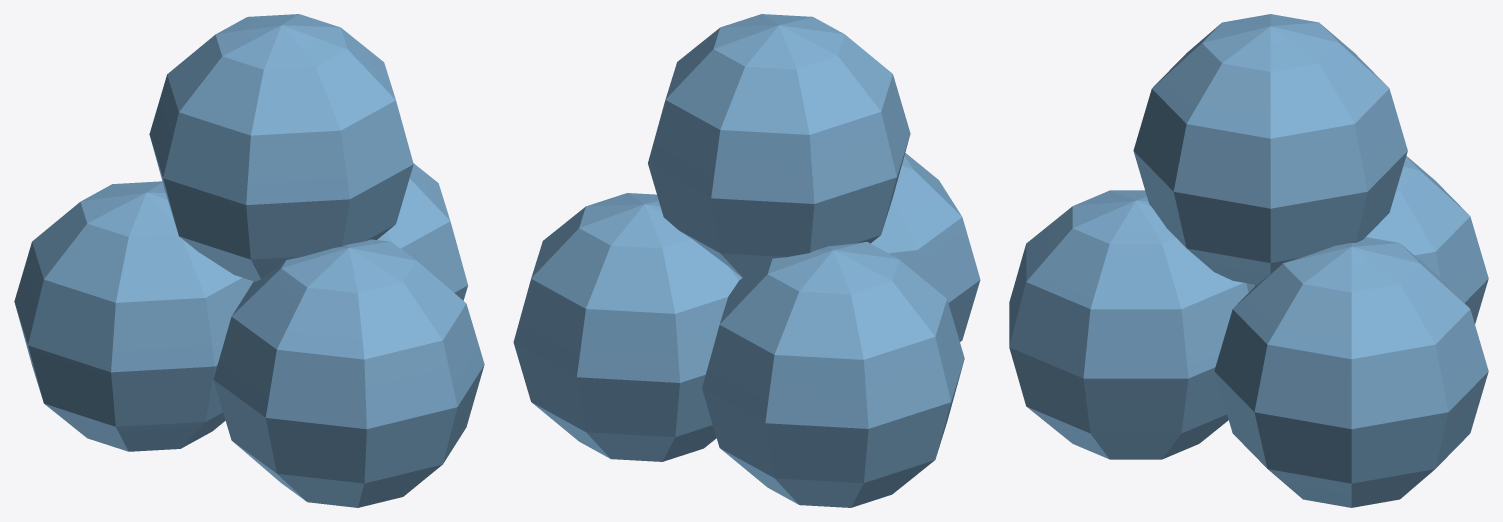
The model's file is SM_SnowballPile2.fbx.
3 renders of one model, left to right at view 1: azimuth 30°, elevation 25°; view 2: azimuth 150°, elevation 25°; view 3: azimuth 270°, elevation 25°, orthographic.
Visible parts, largest first — view 1: SM_SnowballPile2; view 2: SM_SnowballPile2; view 3: SM_SnowballPile2.
Part boxes in pixels (left/top/right/bottom): SM_SnowballPile2: left=14, top=14, right=484, bottom=507; SM_SnowballPile2: left=513, top=14, right=980, bottom=507; SM_SnowballPile2: left=1009, top=14, right=1488, bottom=507.
Size of the model in its own units: 180 by 170 by 175.
